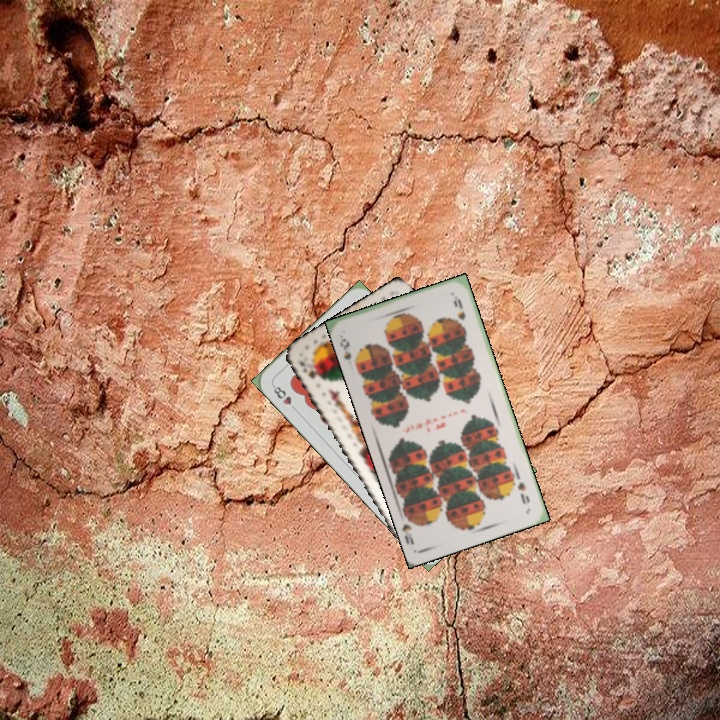H8: (269, 381, 300, 414)
S9: (335, 334, 363, 369), (509, 471, 533, 507)
SK: (295, 356, 318, 381)
